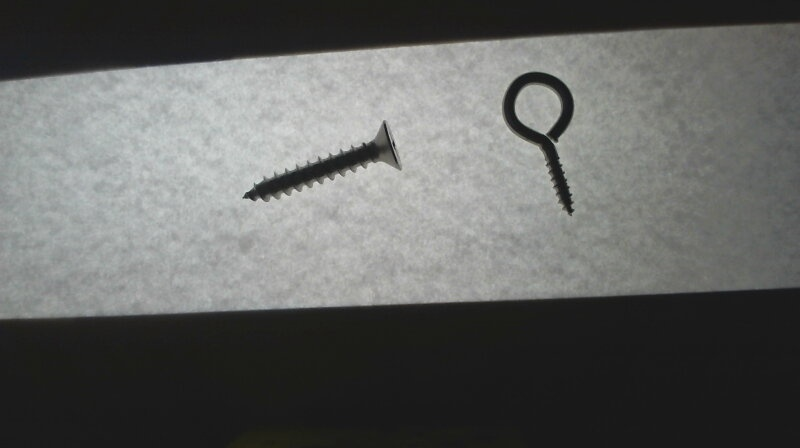O001: (499, 68, 590, 221)
S001: (237, 117, 405, 204)
